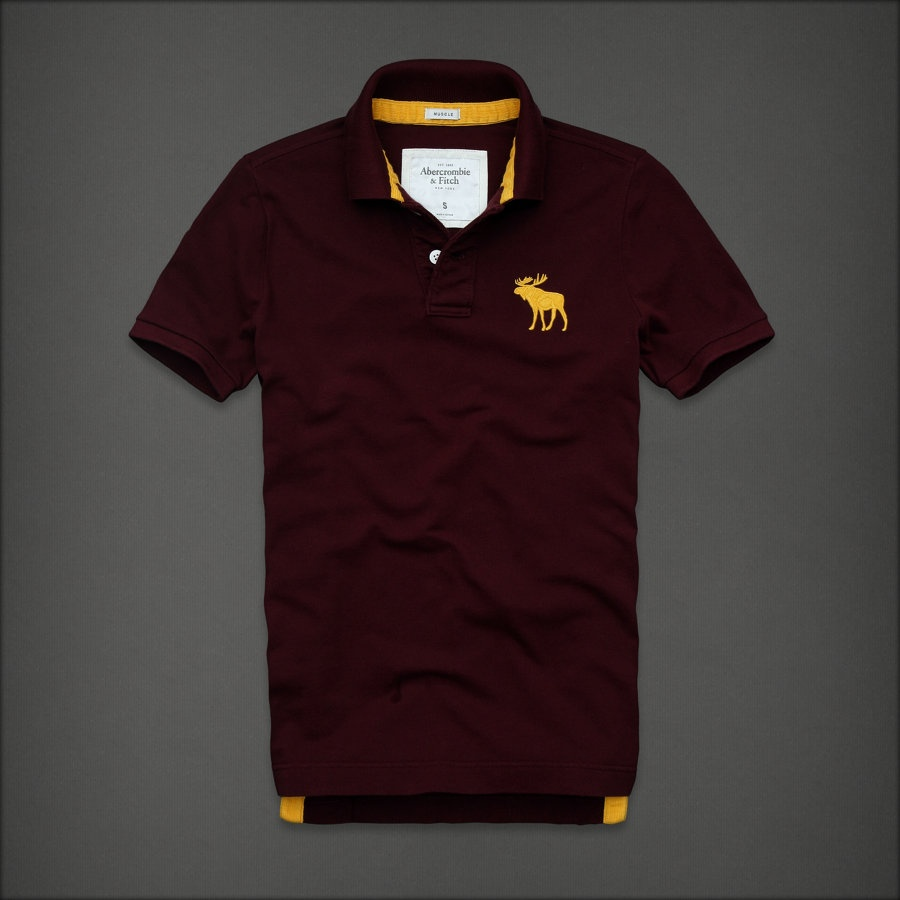flexible: (133, 58, 776, 830)
